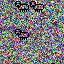sheep: (14, 29, 29, 41), (29, 1, 44, 12), (15, 1, 29, 12)
